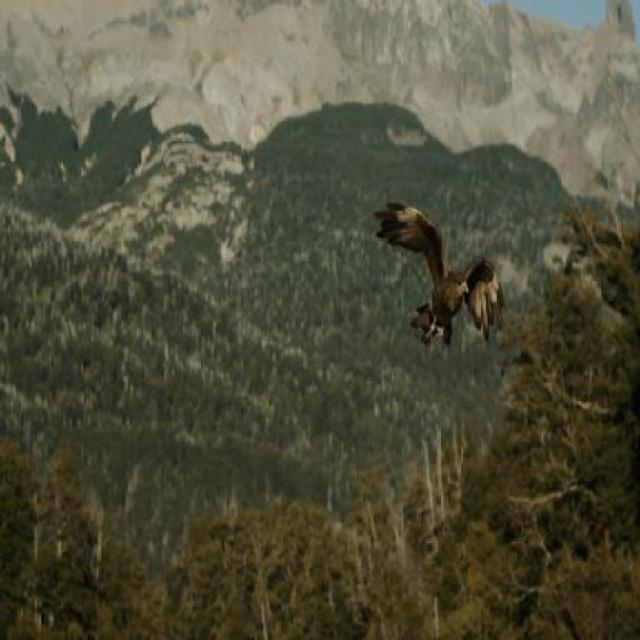bird: (370, 188, 508, 355)
